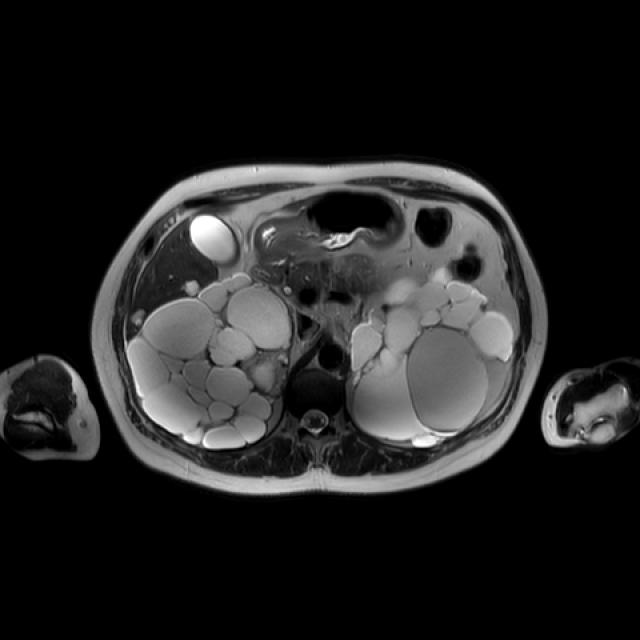sag: (132, 275, 292, 446)
sol: (353, 267, 516, 444)
